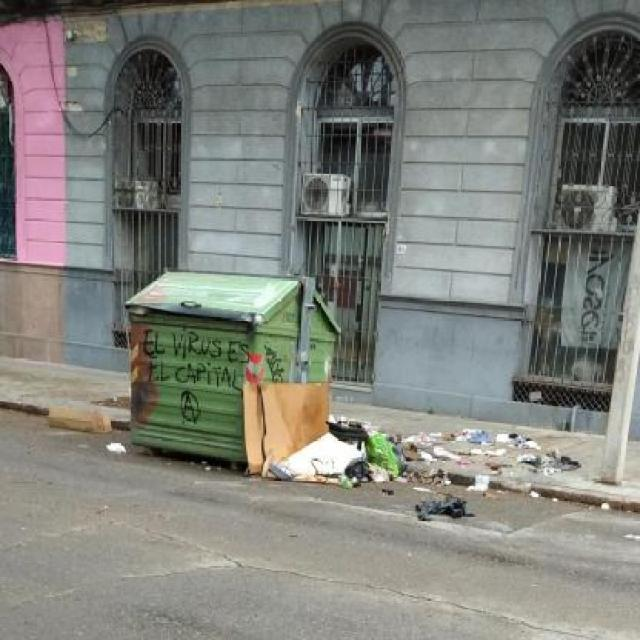garbage: (232, 368, 590, 536), (19, 383, 163, 466)
